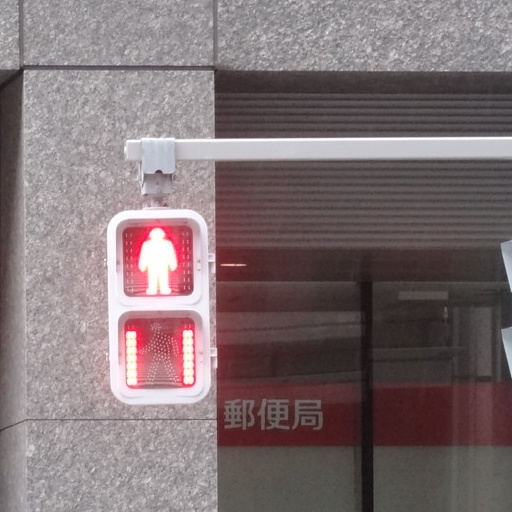Pedestrian_Signal_Red: (102, 199, 212, 401)
